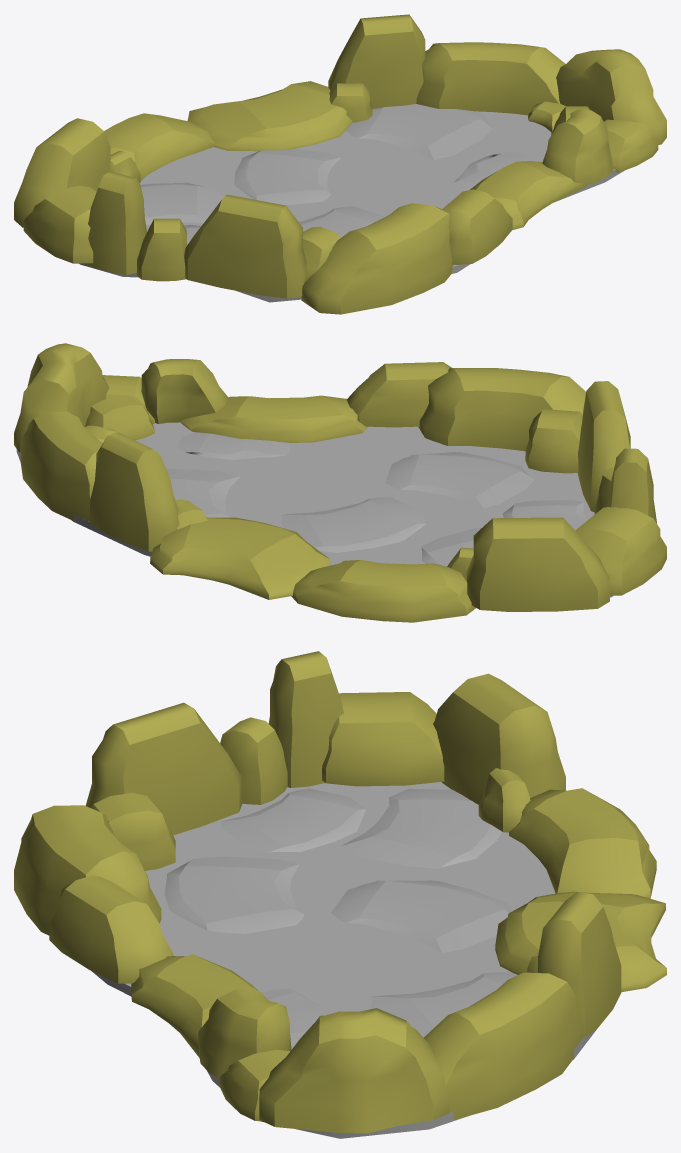
File: hot spring e2.fbx
The picture shows the model from 3 angles, top to bottom: view 1: azimuth 30°, elevation 25°; view 2: azimuth 150°, elevation 25°; view 3: azimuth 270°, elevation 25°; orthographic projection. The views are drawn at different scales.
Parts seen in each view (by area): view 1: hot_springs_rocks17; view 2: hot_springs_rocks17; view 3: hot_springs_rocks17.
Boxes of the visible parts, left/top/right/bottom form: hot_springs_rocks17: left=14, top=14, right=666, bottom=314; hot_springs_rocks17: left=14, top=343, right=666, bottom=622; hot_springs_rocks17: left=14, top=651, right=666, bottom=1138.
Bounding box in the file's own units: 19.43 × 2.84 × 13.63.
